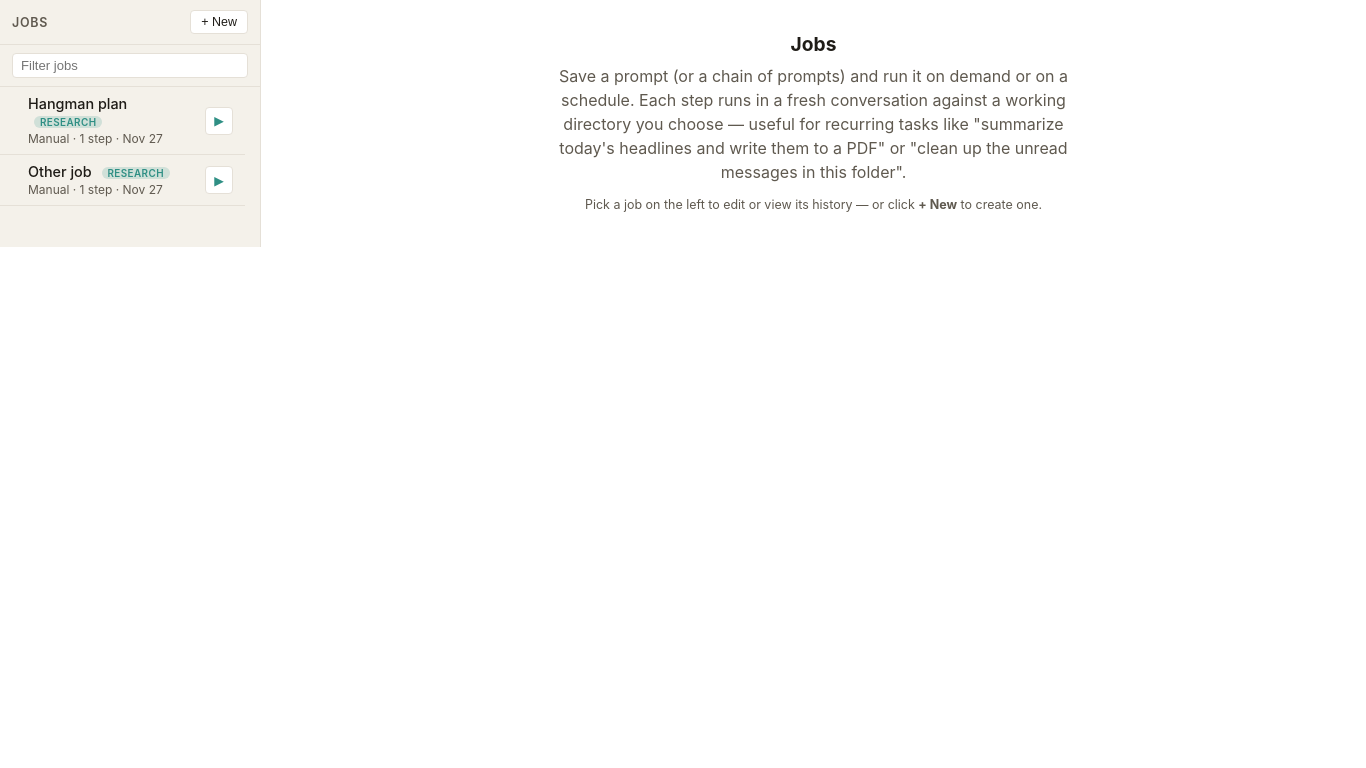
Scenario: JobsTab — switching jobs with unsaved edits › prompts rather than dropping the edits silently
This screenshot has width=1366, height=768.
Step 1. Click the text "Hangman plan" → point(78, 112), box x1=28 y1=95 x2=127 y2=128
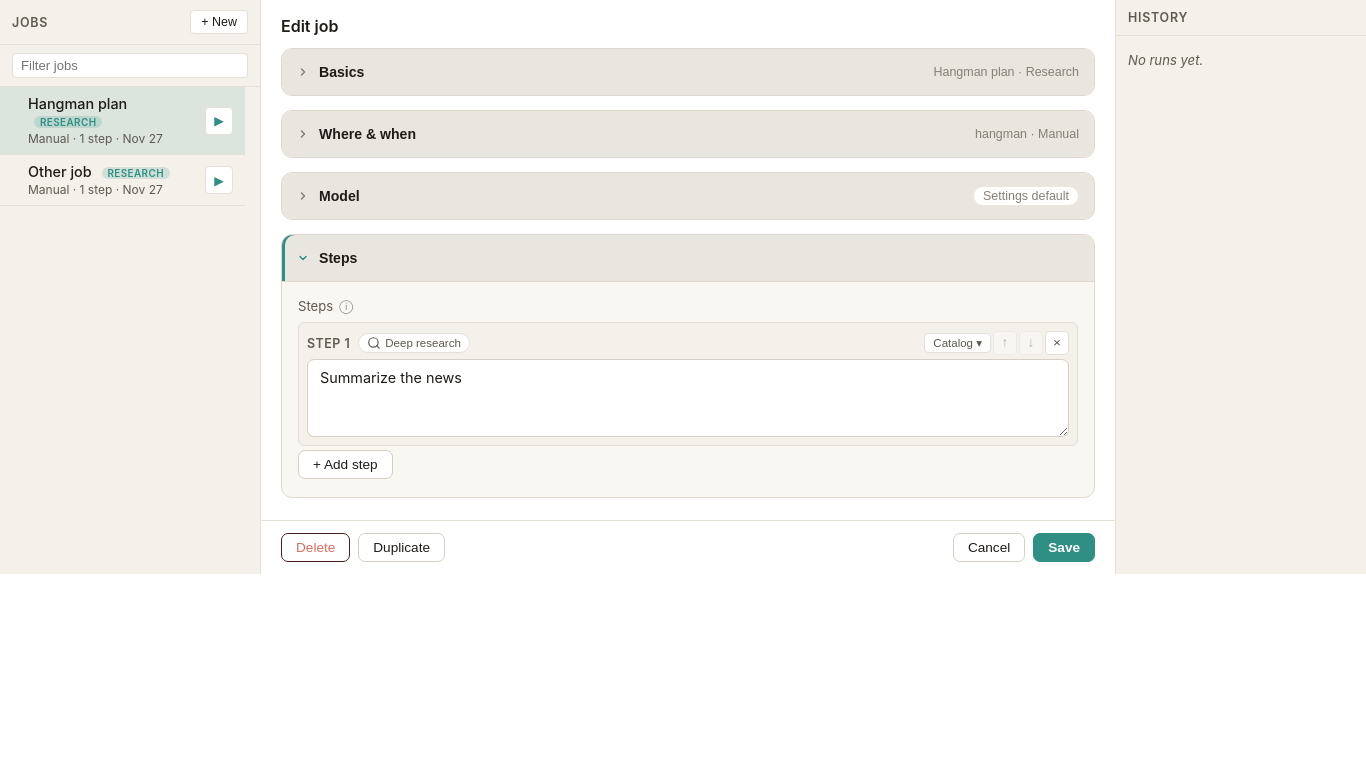
Step 2. Click the text "Basics" → point(342, 72), box x1=319 y1=64 x2=364 y2=80
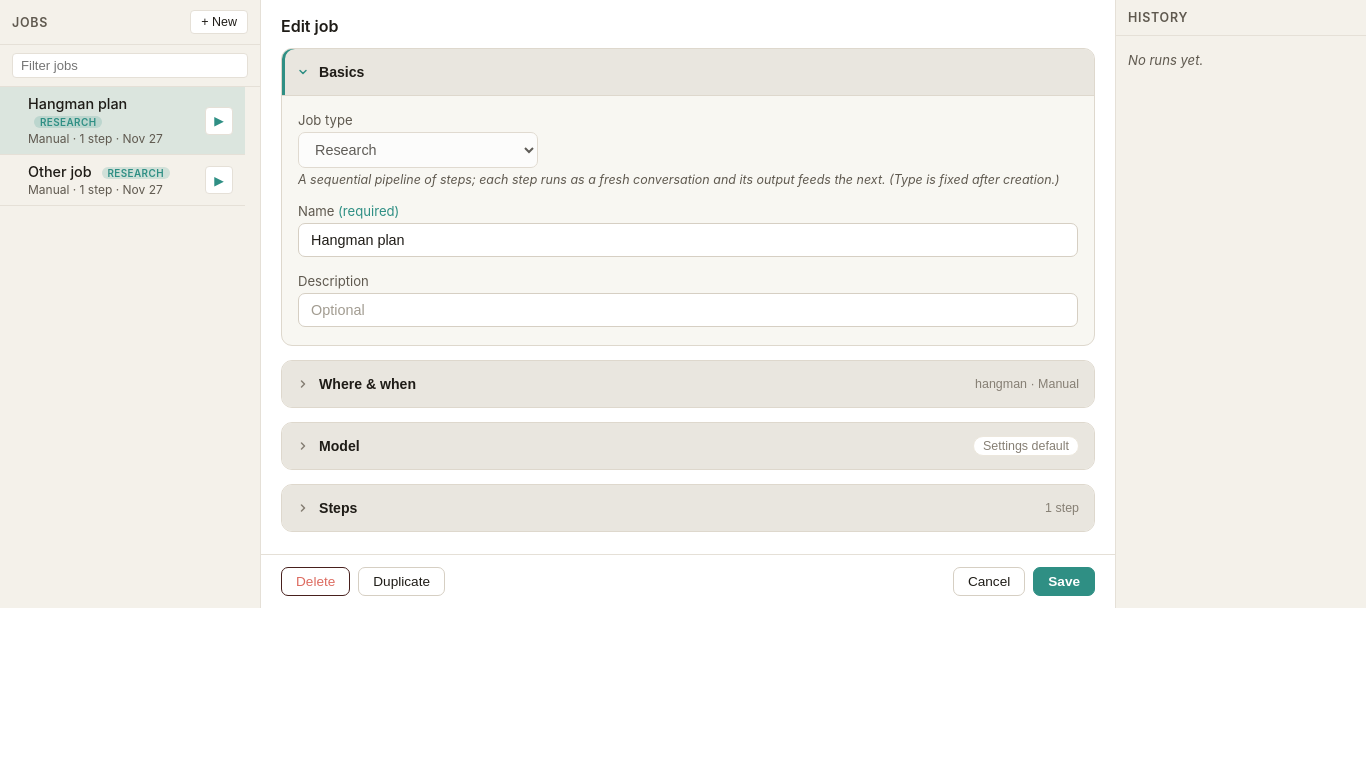
Now the field showing "Hangman plan" is shown
Step 3. Replace the text in the field showing "Hangman plan" with "Hangman plan v2" → point(688, 240), box x1=298 y1=223 x2=1078 y2=257
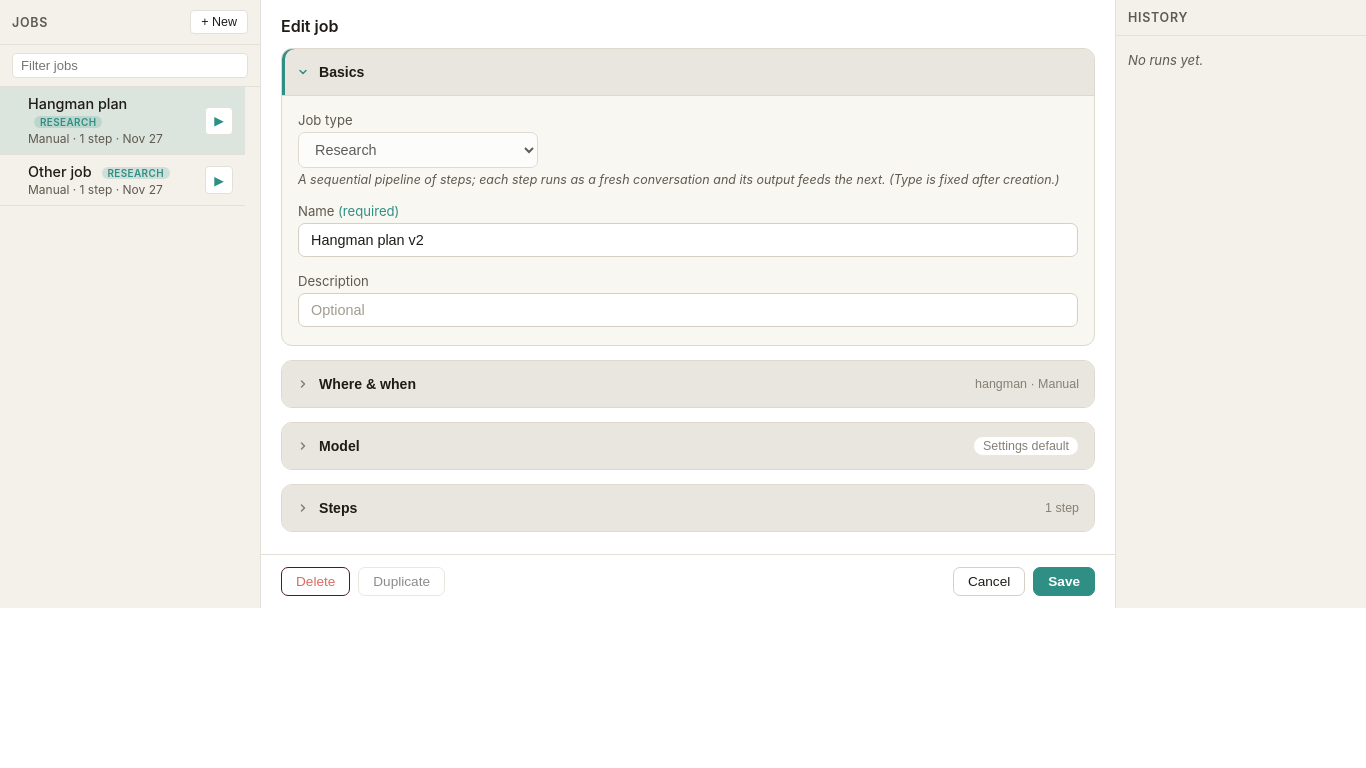
Step 4. Click the text "Other job" → point(99, 172), box x1=28 y1=163 x2=170 y2=180
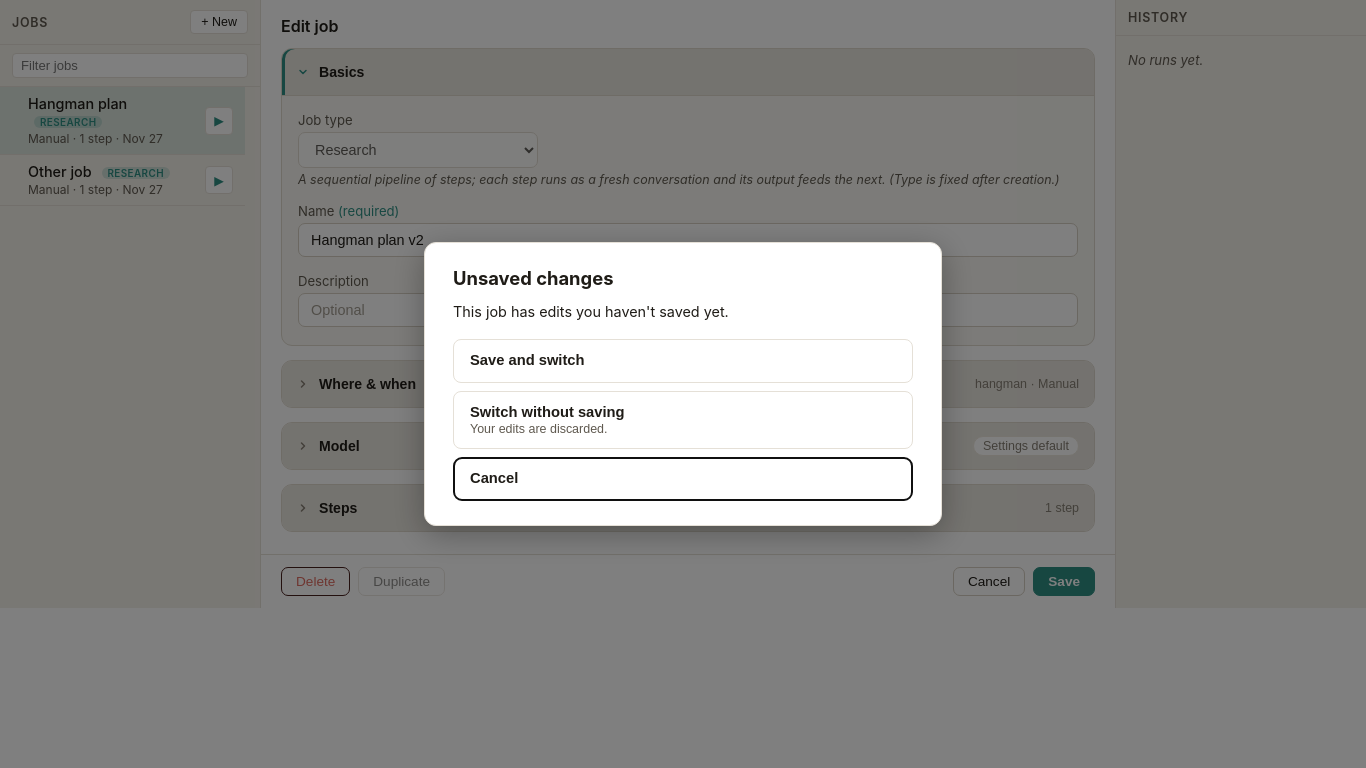
Now the heading "Unsaved changes" is shown, box x1=453 y1=267 x2=614 y2=289
